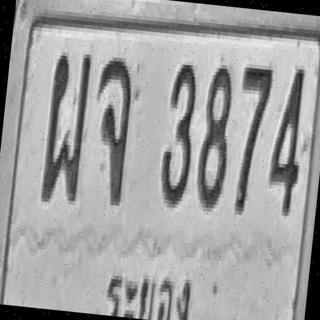A08: (86, 54, 136, 204)
A28: (40, 47, 92, 205)
N03: (157, 60, 200, 209)
N04: (264, 64, 309, 216)
N07: (229, 60, 273, 216)
N08: (194, 61, 236, 211)
P53: (100, 256, 200, 320)
